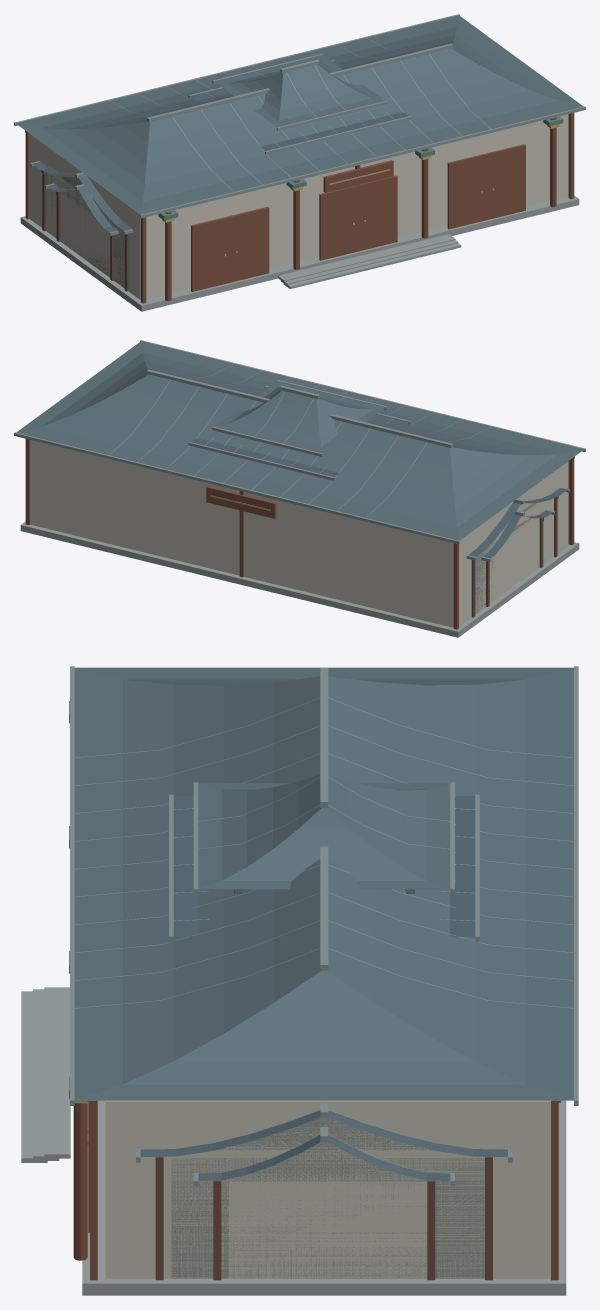
The model's file is reference-public_models_urban-context.glb.
The picture shows the model from 3 angles, top to bottom: view 1: azimuth 30°, elevation 25°; view 2: azimuth 150°, elevation 25°; view 3: azimuth 270°, elevation 25°; orthographic projection. The views are drawn at different scales.
Visible parts, largest first — view 1: Urban_temple_roof, Urban_temple_plaster, Urban_temple_redwood, Urban_temple_stone, Urban_bell-pavilion_roof, Urban_temple_tile, Urban_range_plaster, Urban_warehouse_brick, Urban_shop-upper_slateroof, Urban_bell-pavilion_tile, Urban_shop-upper_tile, Urban_warehouse_slateroof (+6 smaller); view 2: Urban_temple_roof, Urban_temple_plaster, Urban_bell-pavilion_roof, Urban_temple_tile, Urban_temple_stone, Urban_temple_redwood, Urban_range_plaster, Urban_shop-upper_slateroof, Urban_bell-pavilion_tile, Urban_shop-upper_tile, Urban_warehouse_brick, Urban_warehouse_slateroof (+4 smaller); view 3: Urban_temple_roof, Urban_temple_plaster, Urban_bell-pavilion_roof, Urban_warehouse_brick, Urban_range_plaster, Urban_temple_stone, Urban_temple_tile, Urban_shop-upper_slateroof, Urban_temple_redwood, Urban_range_stone, Urban_warehouse_stone, Urban_warehouse_slateroof (+6 smaller).
Boxes of the visible parts, bbox=[...] form: Urban_temple_roof: bbox=[16, 15, 583, 214]; Urban_temple_plaster: bbox=[29, 114, 568, 300]; Urban_temple_redwood: bbox=[25, 113, 574, 303]; Urban_temple_stone: bbox=[20, 195, 579, 311]; Urban_bell-pavilion_roof: bbox=[214, 55, 384, 127]; Urban_temple_tile: bbox=[14, 14, 585, 218]; Urban_range_plaster: bbox=[60, 193, 109, 277]; Urban_warehouse_brick: bbox=[46, 172, 124, 287]; Urban_shop-upper_slateroof: bbox=[190, 61, 408, 150]; Urban_bell-pavilion_tile: bbox=[212, 54, 387, 130]; Urban_shop-upper_tile: bbox=[188, 60, 411, 154]; Urban_warehouse_slateroof: bbox=[33, 162, 131, 230]; Urban_temple_roof: bbox=[16, 341, 583, 540]; Urban_temple_plaster: bbox=[30, 440, 568, 627]; Urban_bell-pavilion_roof: bbox=[215, 381, 385, 453]; Urban_temple_tile: bbox=[14, 340, 585, 544]; Urban_temple_stone: bbox=[20, 521, 579, 637]; Urban_temple_redwood: bbox=[25, 439, 574, 629]; Urban_range_plaster: bbox=[490, 521, 537, 597]; Urban_shop-upper_slateroof: bbox=[191, 387, 409, 476]; Urban_bell-pavilion_tile: bbox=[212, 380, 387, 456]; Urban_shop-upper_tile: bbox=[188, 386, 411, 480]; Urban_warehouse_brick: bbox=[475, 502, 540, 614]; Urban_warehouse_slateroof: bbox=[468, 488, 566, 556]; Urban_temple_roof: bbox=[74, 667, 573, 1100]; Urban_temple_plaster: bbox=[105, 1100, 550, 1278]; Urban_bell-pavilion_roof: bbox=[198, 774, 450, 889]; Urban_warehouse_brick: bbox=[171, 1118, 484, 1278]; Urban_range_plaster: bbox=[229, 1181, 427, 1278]; Urban_temple_stone: bbox=[21, 987, 566, 1295]; Urban_temple_tile: bbox=[70, 666, 578, 1105]; Urban_shop-upper_slateroof: bbox=[173, 796, 475, 936]; Urban_temple_redwood: bbox=[73, 1100, 558, 1280]; Urban_range_stone: bbox=[205, 1278, 442, 1295]; Urban_warehouse_stone: bbox=[148, 1278, 500, 1295]; Urban_warehouse_slateroof: bbox=[140, 1110, 507, 1157].
Bounding box in the file's own units: 31.4 × 10.63 × 16.92.
